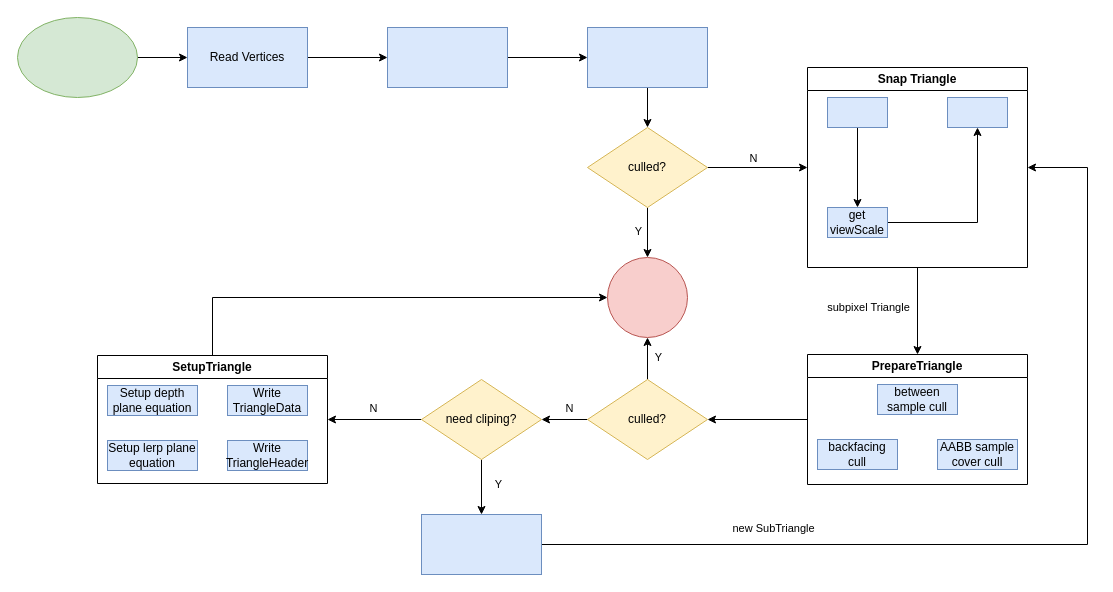
The diagram is 1113 pixels wide and 592 high, and some of its shapes have lost their labels. Here are the shapes that lost their labels. From the top down, the centre of each, then its label:
At point (77, 57): "开始".
At point (447, 57): "fetchVertPos [-1,1]".
At point (647, 57): "Outside frustum culling".
At point (857, 112): "get rcp".
At point (977, 112): "snap".
At point (647, 297): "return".
At point (481, 544): "clip".
